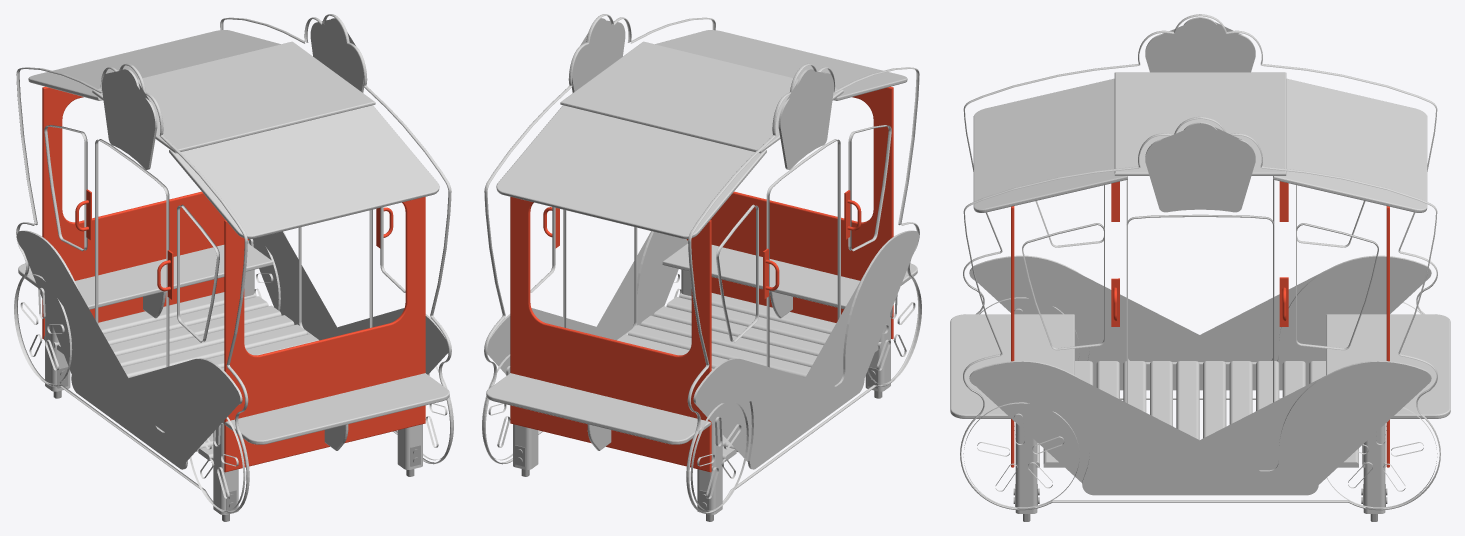
3 renders of one model, left to right at view 1: azimuth 30°, elevation 25°; view 2: azimuth 150°, elevation 25°; view 3: azimuth 270°, elevation 25°, orthographic. The views are drawn at different scales.
Visible parts, largest first — view 1: D_16; view 2: D_16; view 3: D_16.
Boxes of the visible parts, bbox=[...] form: D_16: bbox=[14, 14, 453, 521]; D_16: bbox=[482, 14, 921, 521]; D_16: bbox=[950, 14, 1450, 521].
Bounding box in the file's own units: 116 × 186 × 207.
